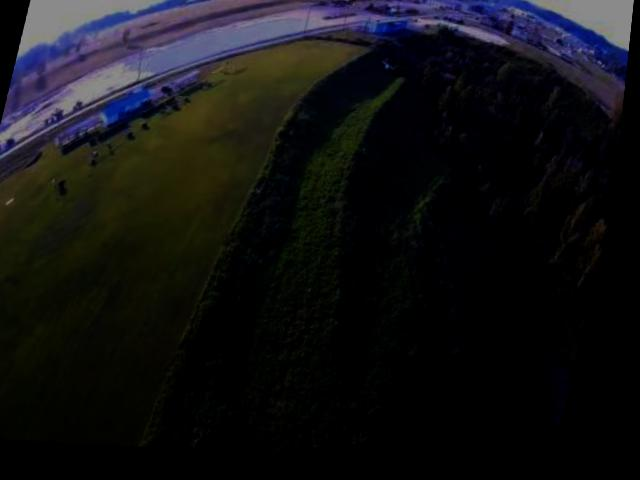uav: (379, 59, 404, 83)
